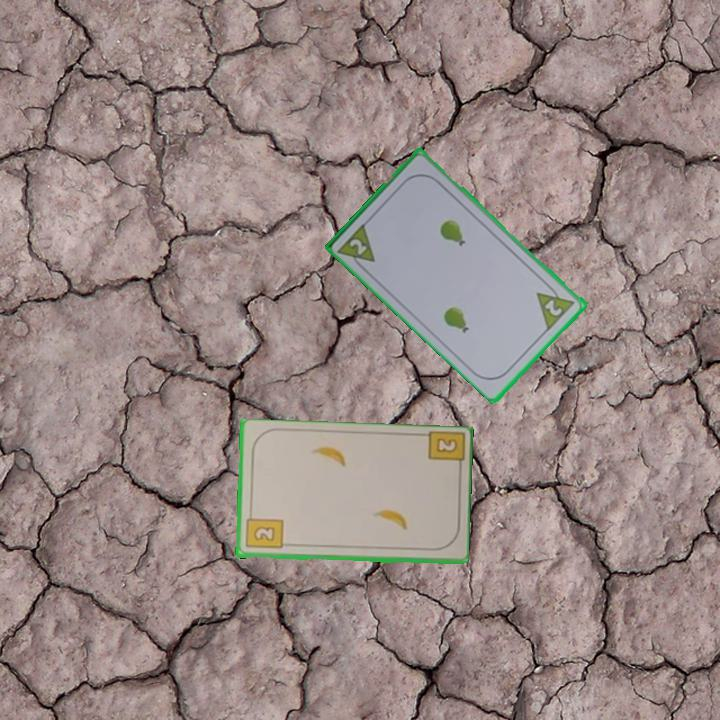2b: (423, 429, 465, 475), (242, 509, 285, 552)
2p: (533, 279, 578, 333), (335, 219, 378, 274)
